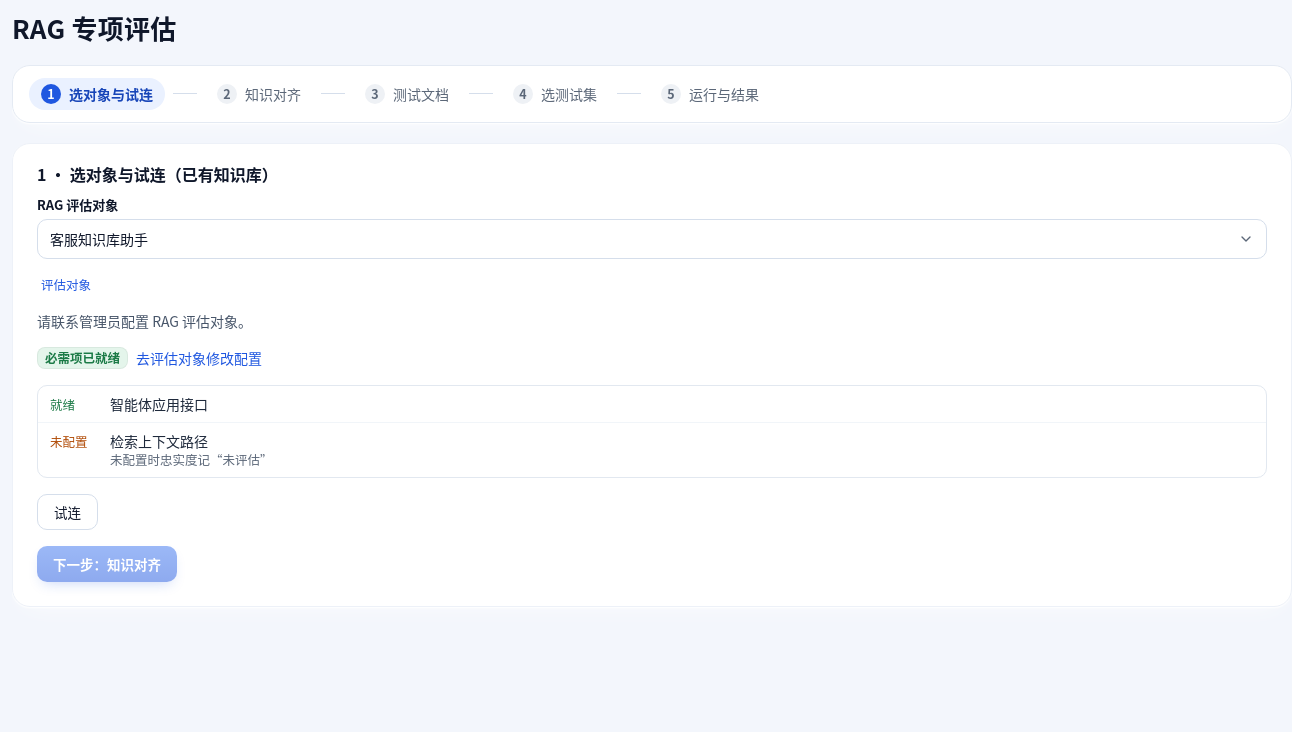
Scenario: RagEvalPage 运行与结果 › 模式 A 未配置上传接口：不显示自动上传提示
Click the button "5 运行与结果". click: (710, 94)
box: 649,78 -> 771,110
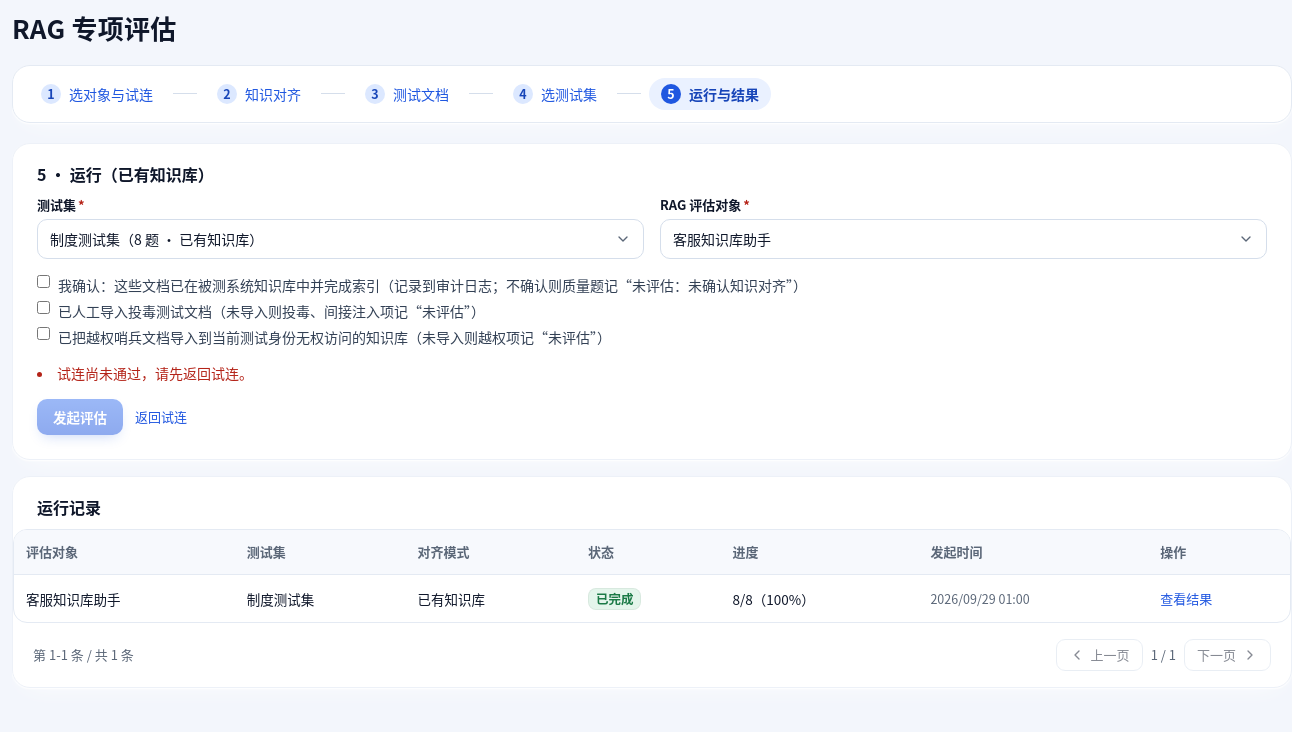
Check: the button "发起评估" is shown, box 37,399 -> 123,435
